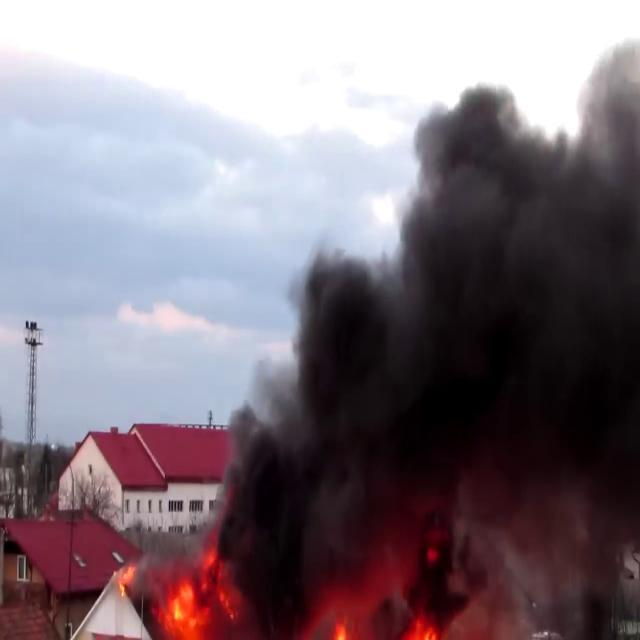Fire: (158, 566, 222, 638)
Smoke: (221, 34, 640, 626)
